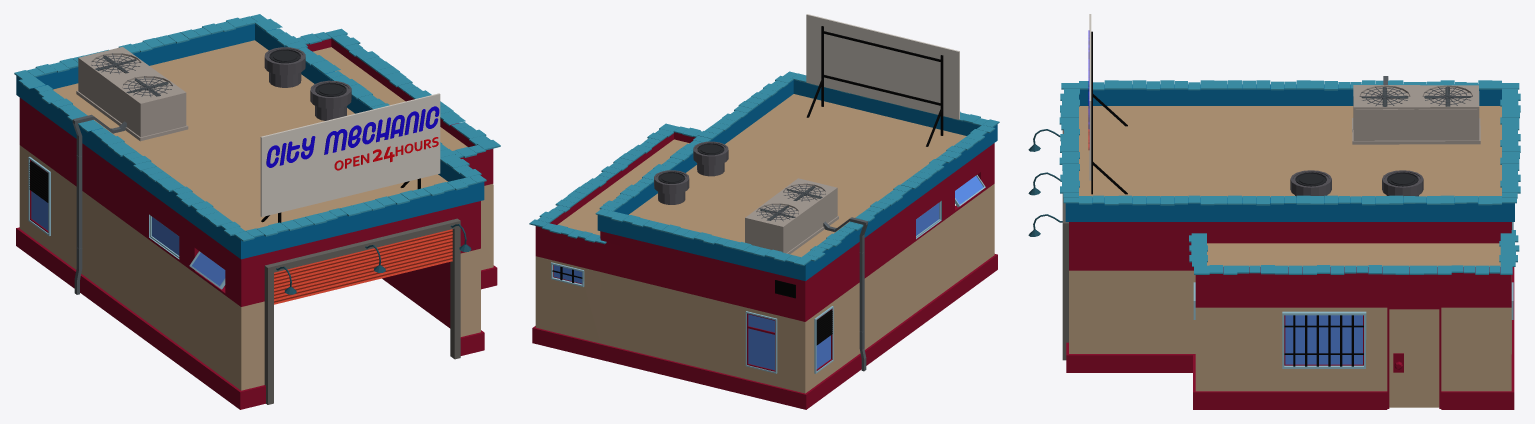
Rendered from RepairShop.gltf.
3 views of the same model, side by side, from view 1: azimuth 30°, elevation 25°; view 2: azimuth 150°, elevation 25°; view 3: azimuth 270°, elevation 25° (orthographic). The views are drawn at different scales.
Visible parts, largest first — view 1: RepairShop; view 2: RepairShop; view 3: RepairShop.
Boxes of the visible parts, x1=… form: RepairShop: x1=14, y1=14, x2=500, y2=409; RepairShop: x1=529, y1=14, x2=999, y2=409; RepairShop: x1=1028, y1=14, x2=1520, y2=409.
Size of the model in its own units: 6.91 by 5.1 by 8.89.
